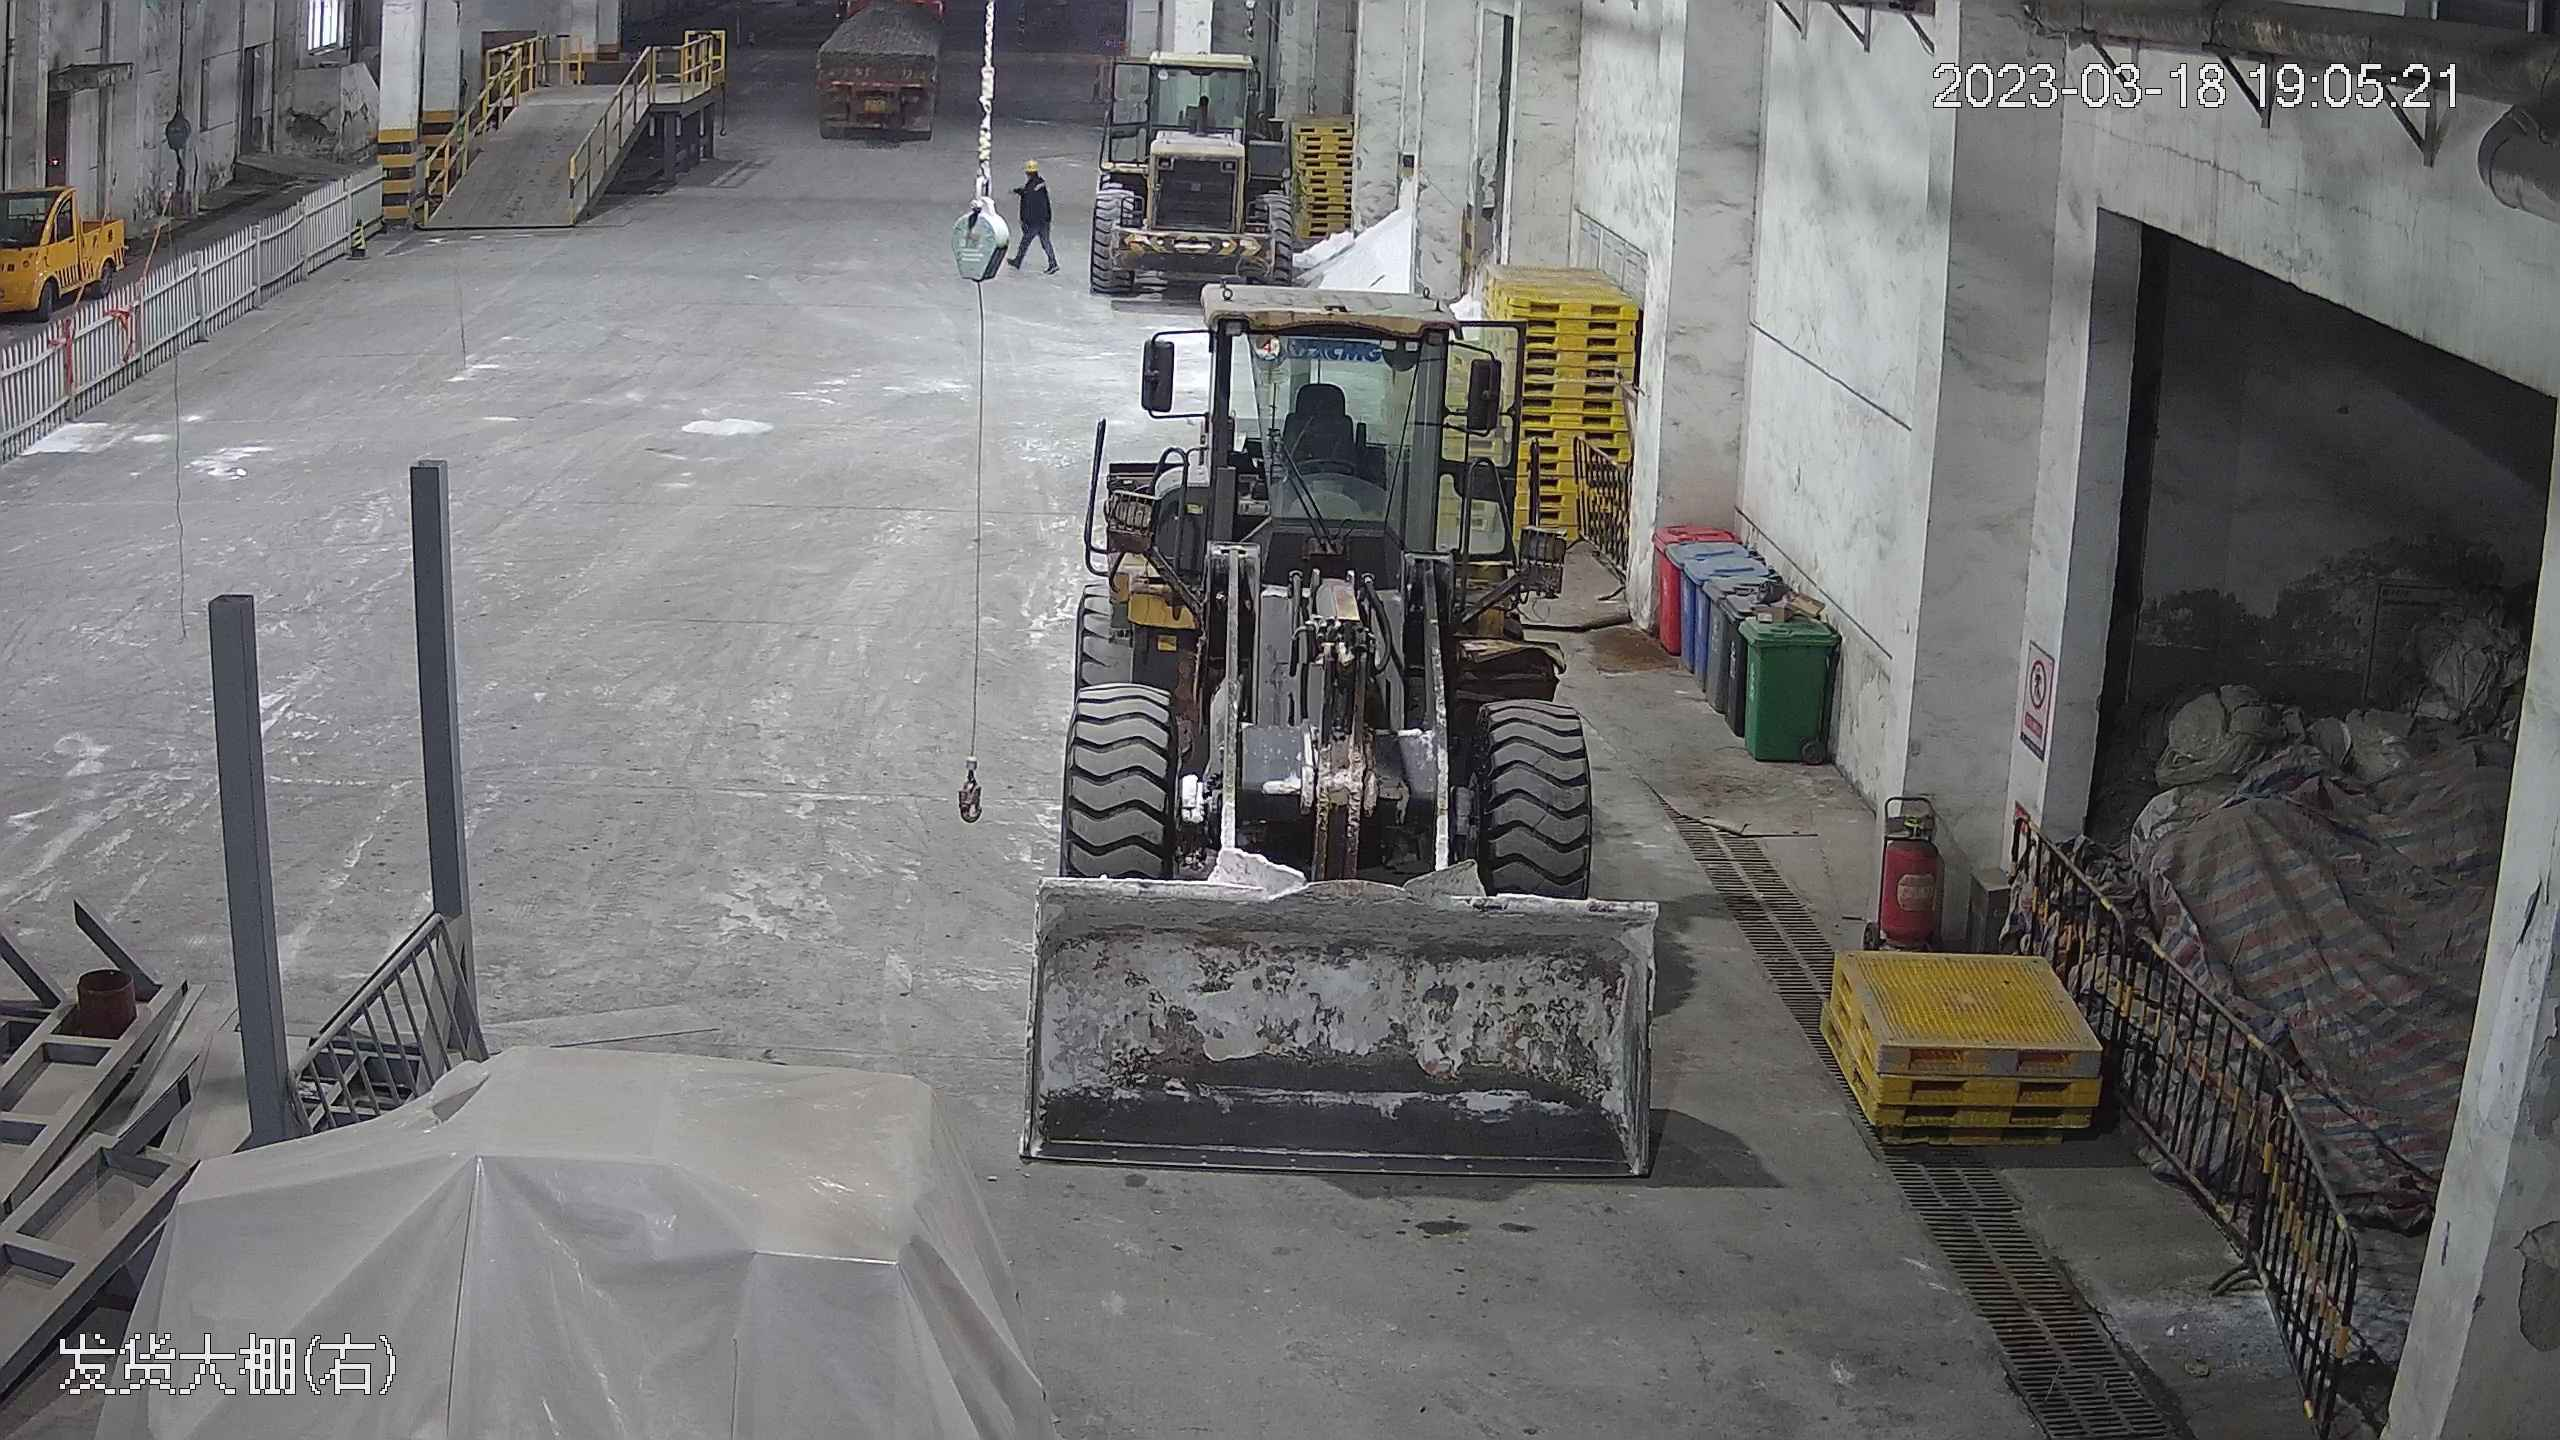head: (1014, 157, 1049, 197)
helmet: (1024, 158, 1039, 175)
people: (1007, 155, 1058, 279)
truck: (805, 1, 982, 143)
